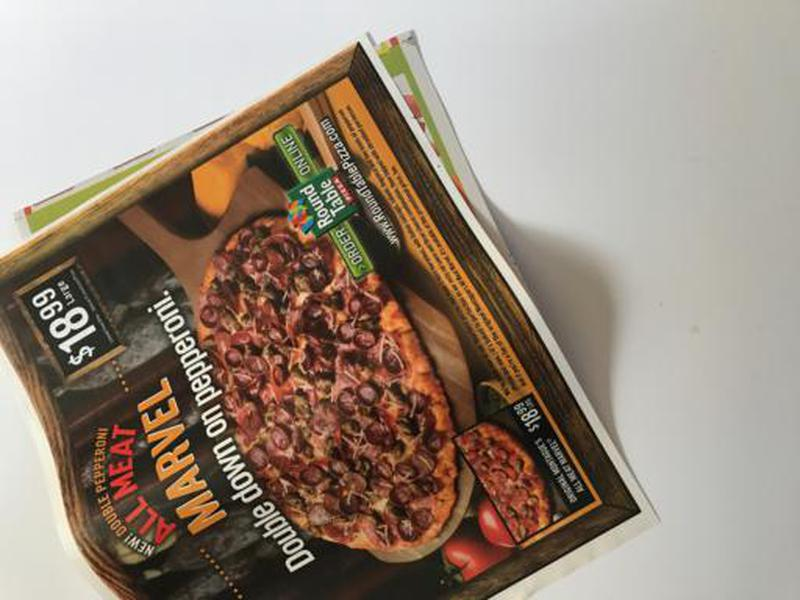paper: (1, 30, 665, 600)
